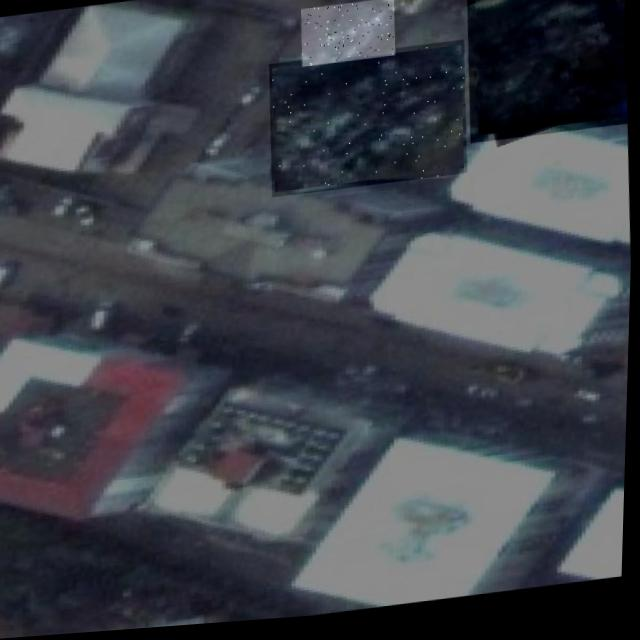Rubble: (266, 45, 472, 201), (463, 0, 632, 150), (300, 2, 397, 71)
